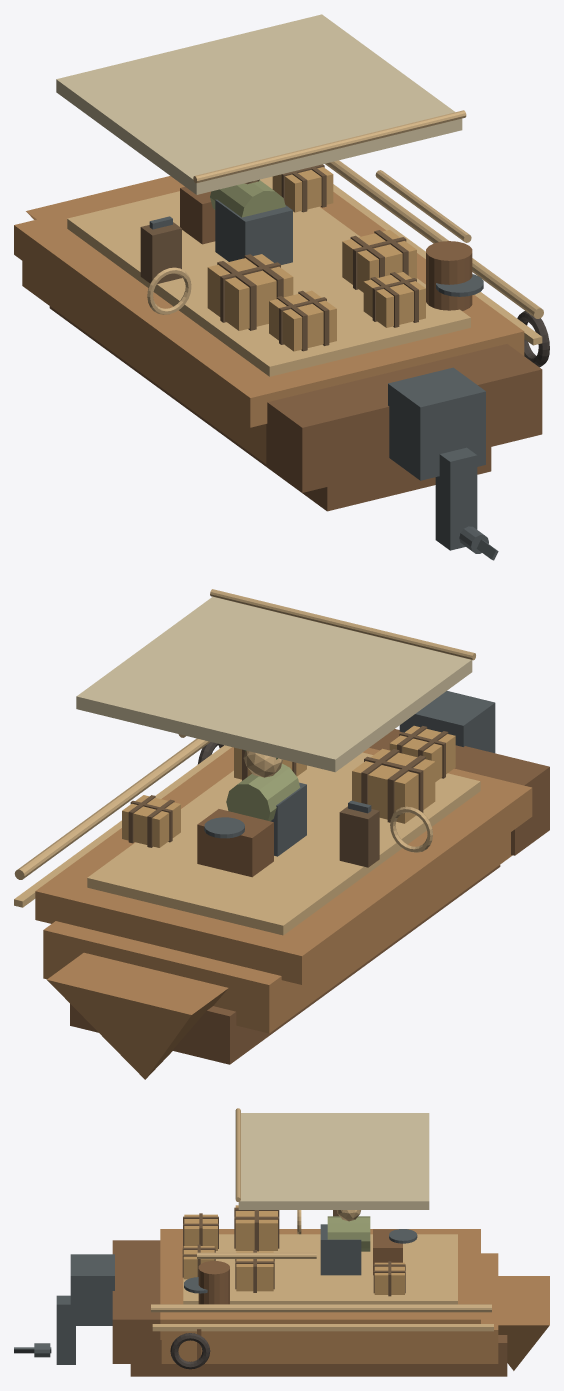
The model's file is amazon_river_boat.glb.
3 renders of one model, top to bottom at view 1: azimuth 30°, elevation 25°; view 2: azimuth 150°, elevation 25°; view 3: azimuth 270°, elevation 25°, orthographic. The views are drawn at different scales.
Parts seen in each view (by area): view 1: canvas_canopy, upper_rim, deck_planks, stern, outboard_motor, main_hull, driver_seat, motor_lower_unit, lower_hull, cargo_crate_0_box, barrel, side_rail (+14 smaller); view 2: canvas_canopy, upper_rim, deck_planks, main_hull, pointed_bow, stern, lower_hull, steering_console, outboard_motor, cargo_crate_0_box, side_rail, driver_body (+9 smaller); view 3: canvas_canopy, upper_rim, deck_planks, main_hull, stern, lower_hull, pointed_bow, outboard_motor, side_rail, side_plank, driver_seat, cargo_crate_0_box (+12 smaller).
Part boxes in pixels (box(x1,y1,x2,y2)): canvas_canopy: box(56, 14, 462, 194); upper_rim: box(14, 184, 524, 427); deck_planks: box(67, 176, 470, 376); stern: box(266, 344, 542, 492); outboard_motor: box(388, 367, 485, 480); main_hull: box(22, 261, 266, 463); driver_seat: box(215, 199, 292, 264); motor_lower_unit: box(435, 447, 477, 550); lower_hull: box(49, 306, 491, 511); cargo_crate_0_box: box(207, 254, 293, 330); barrel: box(426, 241, 472, 310); side_rail: box(325, 160, 543, 318); canvas_canopy: box(76, 597, 472, 772); upper_rim: box(35, 747, 532, 984); deck_planks: box(87, 752, 480, 935); main_hull: box(43, 832, 512, 1033); pointed_bow: box(47, 952, 228, 1079); stern: box(369, 729, 549, 855); lower_hull: box(70, 865, 500, 1064); steering_console: box(197, 809, 273, 877); outboard_motor: box(399, 691, 495, 753); cargo_crate_0_box: box(352, 748, 435, 823); side_rail: box(14, 738, 209, 879); driver_body: box(226, 763, 300, 821); canvas_canopy: box(238, 1113, 429, 1209); upper_rim: box(160, 1229, 480, 1339); deck_planks: box(183, 1234, 457, 1304); main_hull: box(161, 1253, 498, 1363); stern: box(112, 1240, 161, 1363); lower_hull: box(130, 1335, 507, 1376); pointed_bow: box(498, 1276, 549, 1370); outboard_motor: box(70, 1254, 114, 1325); side_rail: box(151, 1304, 491, 1312); side_plank: box(152, 1324, 493, 1331); driver_seat: box(320, 1224, 361, 1275); cargo_crate_0_box: box(235, 1205, 277, 1250).
Size of the model in its own units: 2.74 by 2.72 by 6.05.
